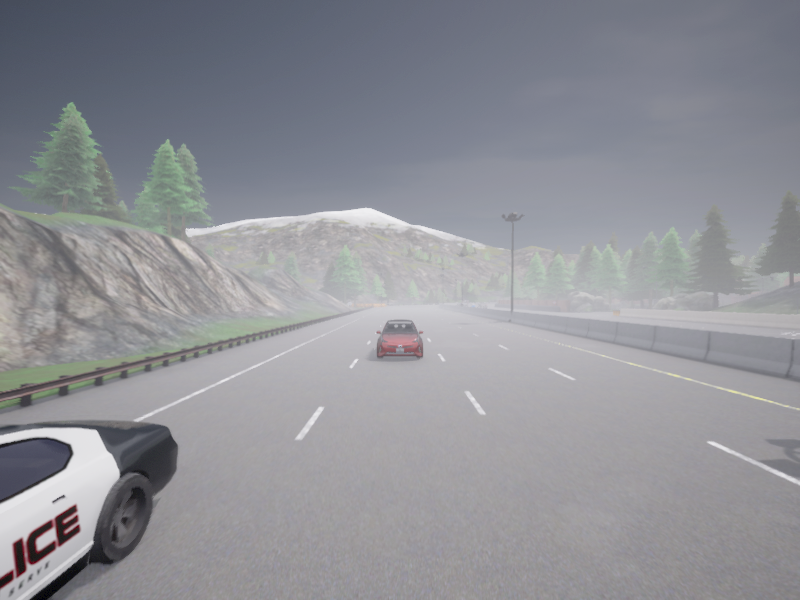vehicle: (0, 420, 178, 599), (376, 320, 423, 358), (478, 303, 486, 307), (463, 300, 468, 306), (471, 304, 475, 306), (456, 303, 460, 305)
